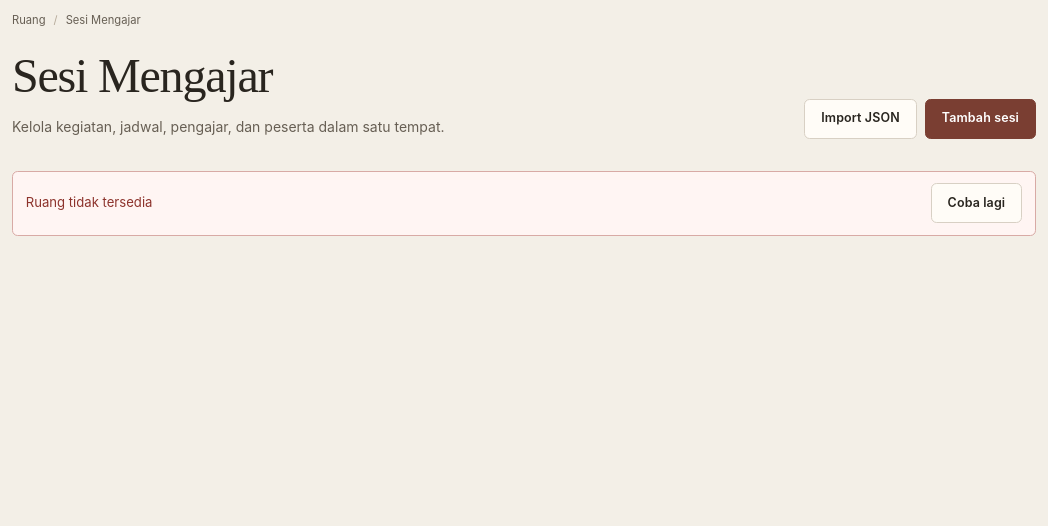
Test case: SessionsPage › replaces a failed workspace load with a retry action
The width and height of the screenshot is (1048, 526).
Expected: the message shows "Ruang tidak tersedia", x1=26 y1=194 x2=152 y2=210
Step 1. Click the button "Coba lagi" → x=976, y=203, box x1=931 y1=183 x2=1022 y2=223
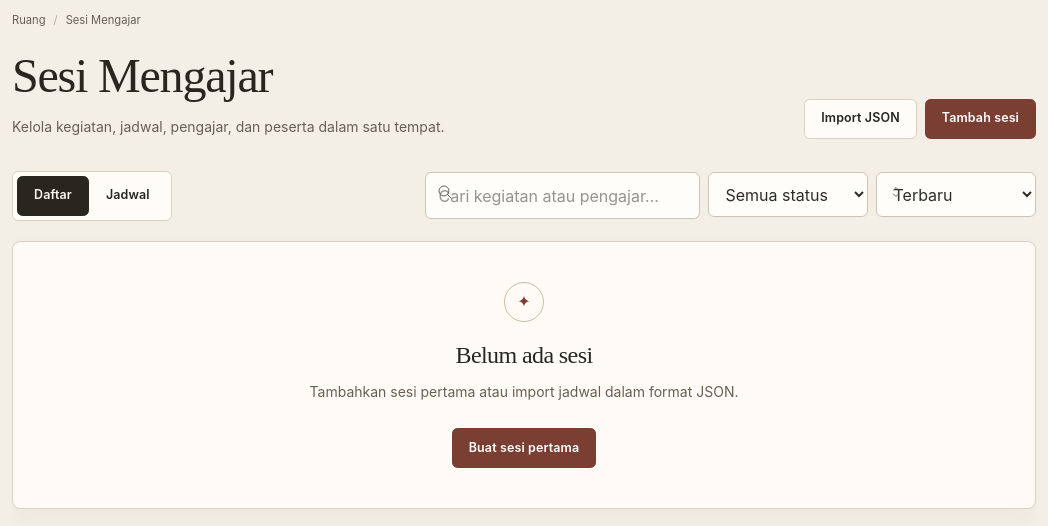
Expected: the heading "Belum ada sesi" is shown, x1=456 y1=342 x2=592 y2=368
